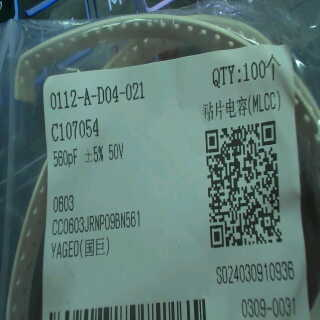560pF: (47, 145, 86, 171)
